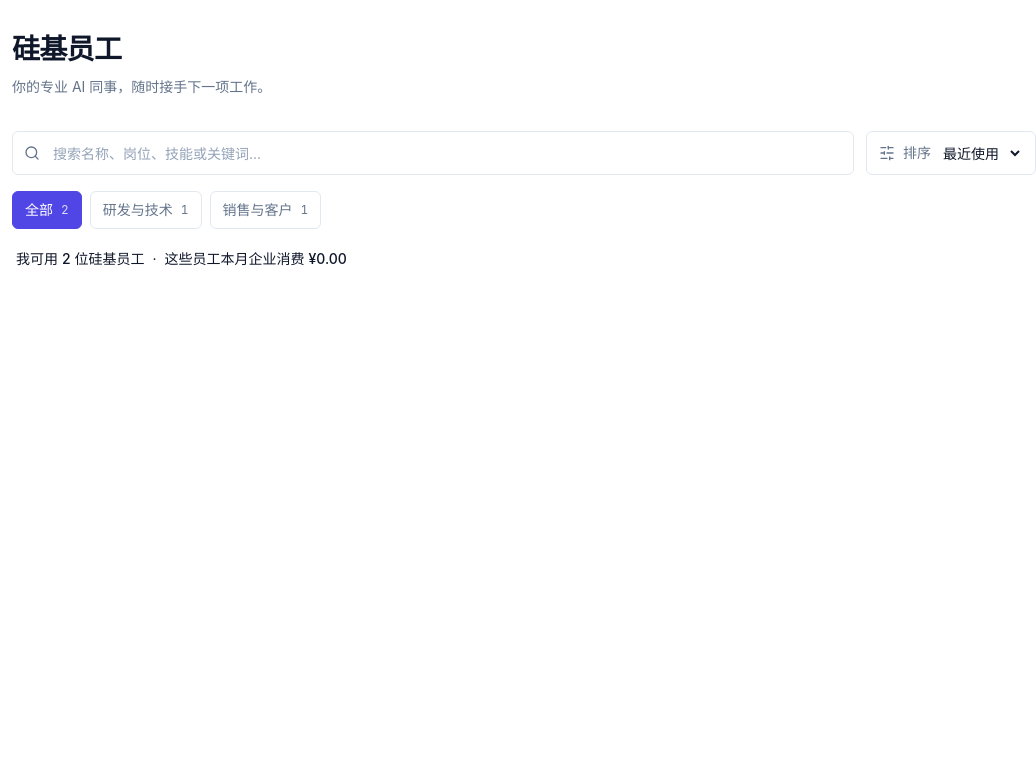
MyEmployeesPage › 按真实分类筛选，并显示完整列表分类数量
Click the button "研发与技术 1" at (146, 210), box 90,191 -> 202,229
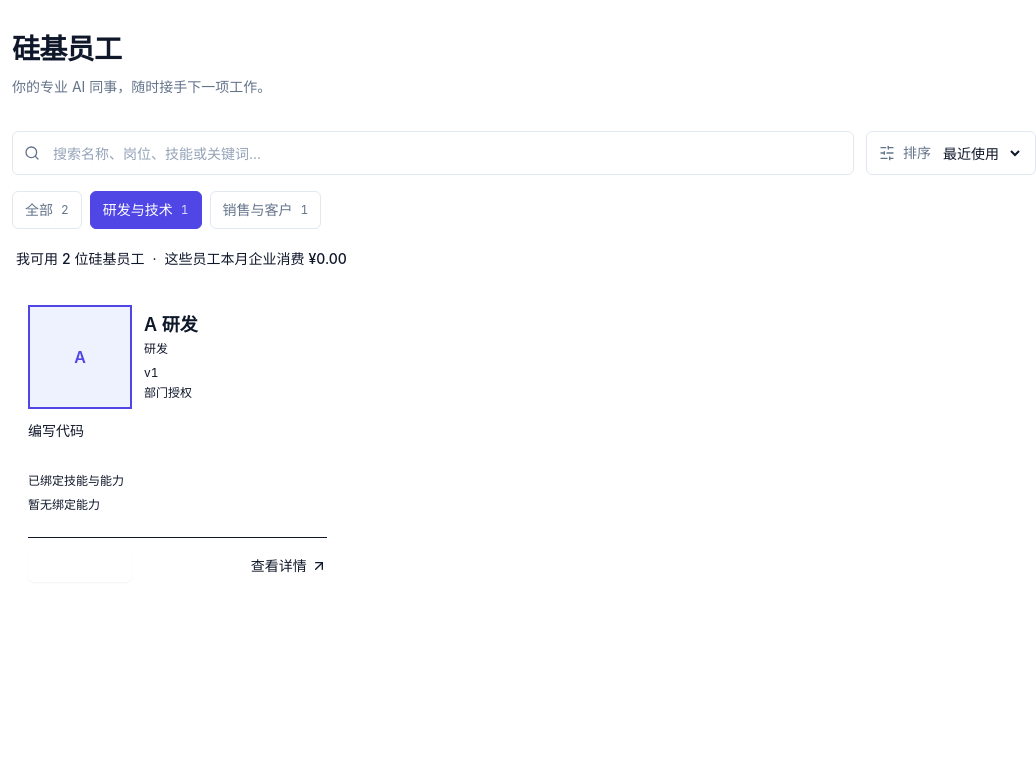
Expected: the button "全部 2" is shown, 12,191 -> 82,229
Result: the heading "A 研发" is shown at 144,314 -> 198,335
